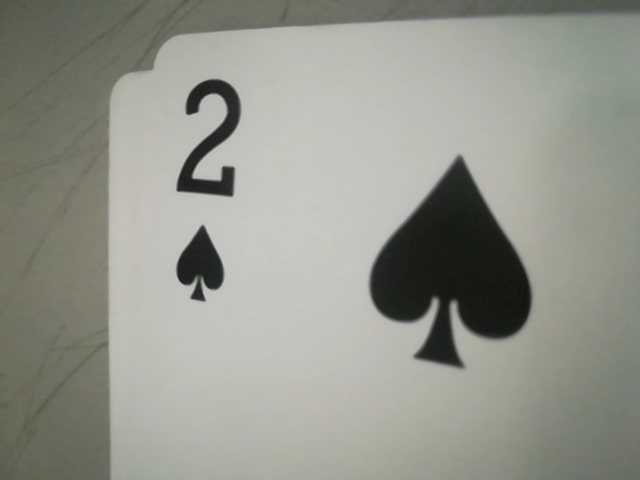ht 2: (166, 57, 259, 304)
